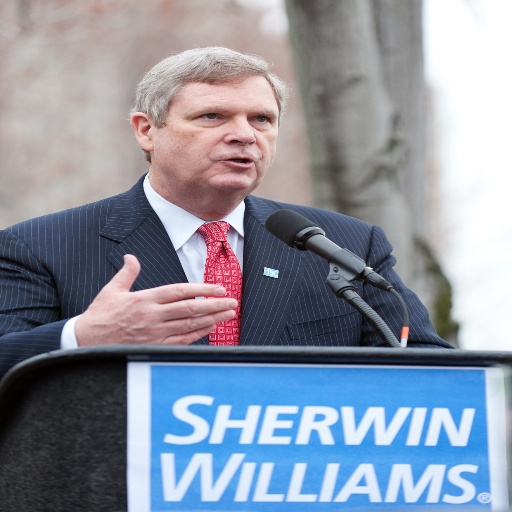hand: (72, 263, 252, 350)
